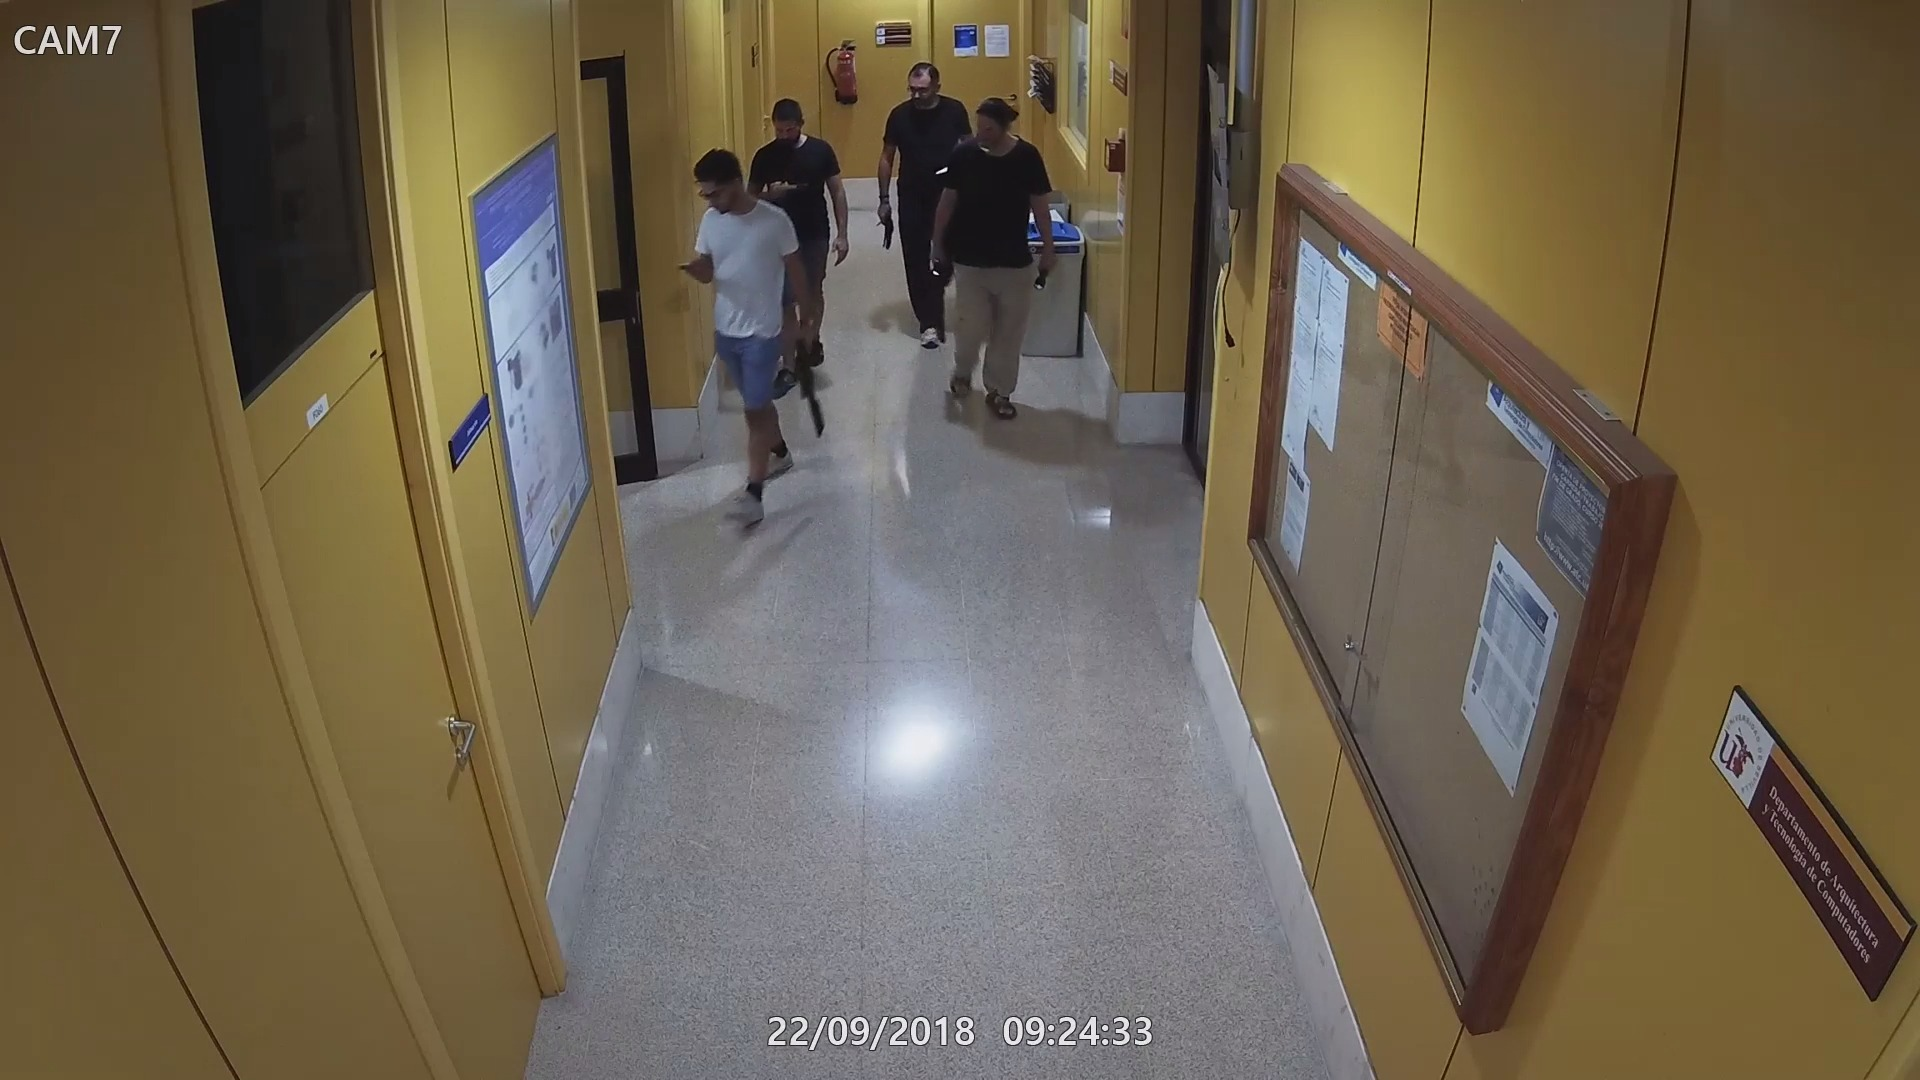Handgun: (770, 174, 811, 202)
Short_rifle: (794, 327, 829, 438), (928, 248, 953, 347)
